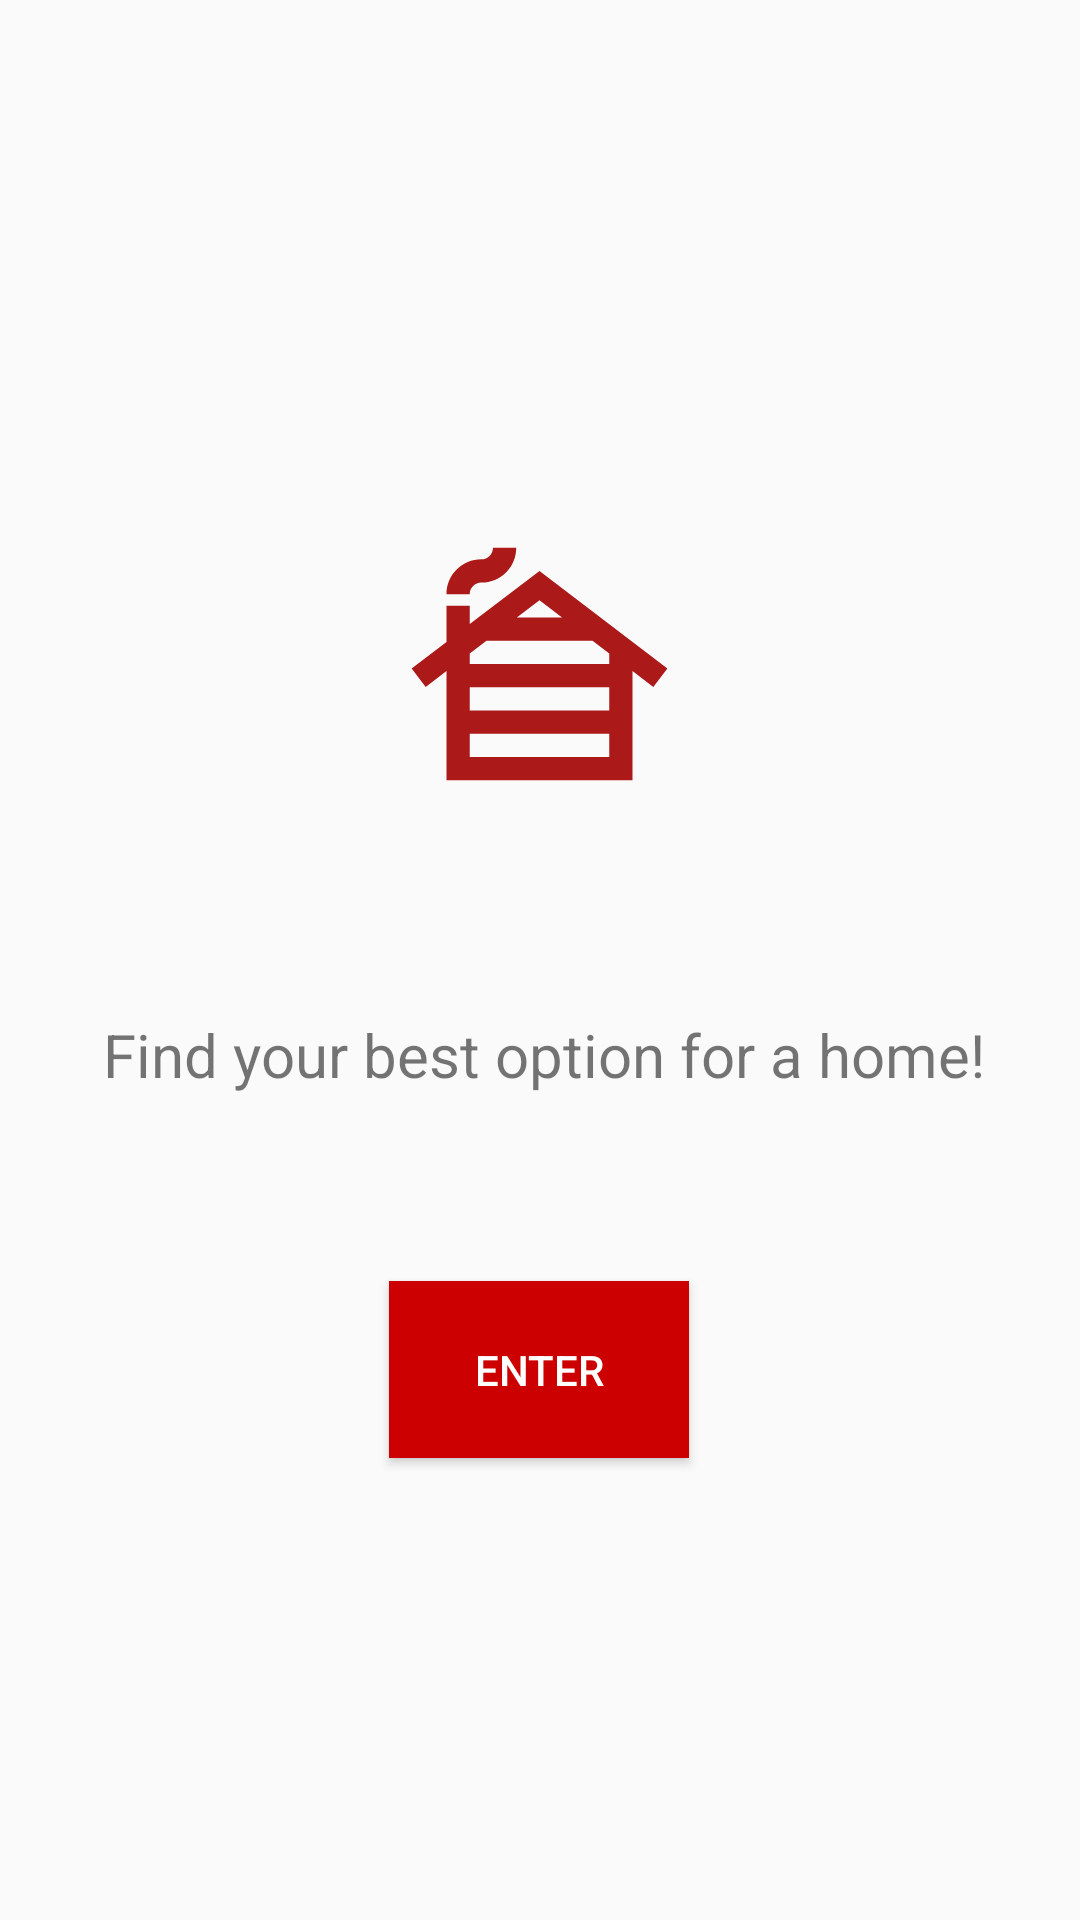

Icons on this 1080px x 1920px Android screen, each with the point to tap as [x,y]:
cabin: [539,664]
